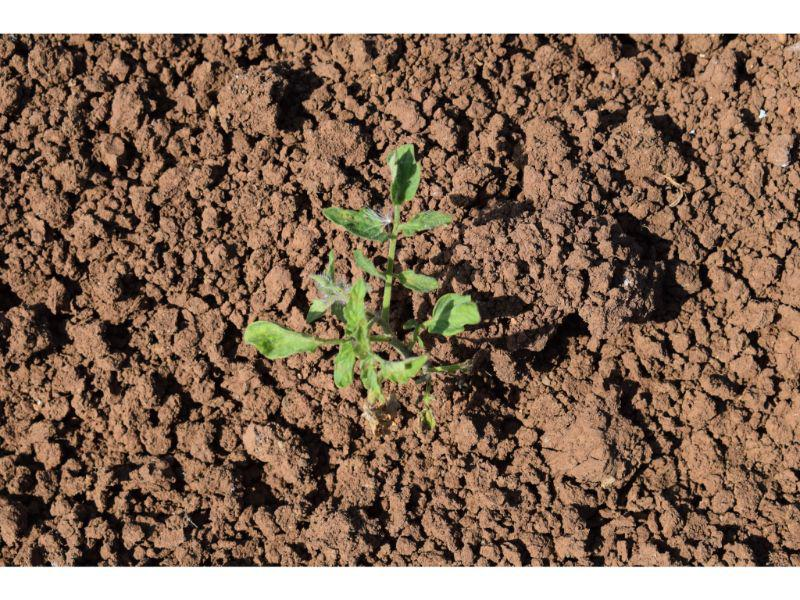tomato: (240, 143, 480, 401)
